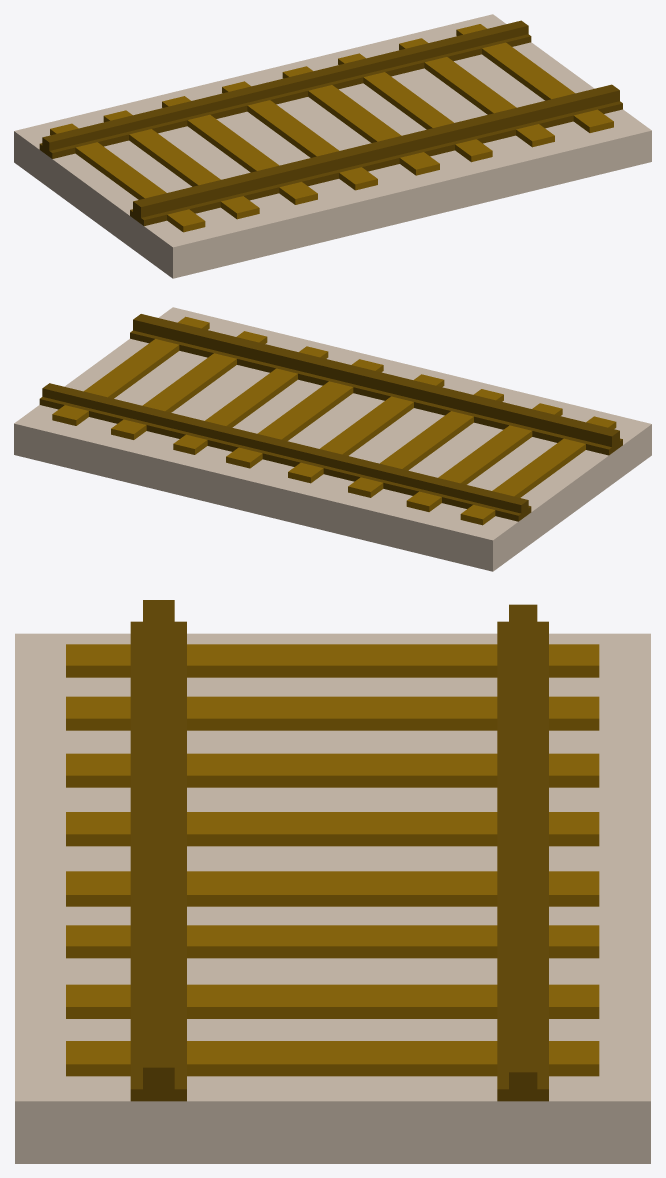
File: TrainTrack_MDL.fbx
The picture shows the model from 3 angles, top to bottom: view 1: azimuth 30°, elevation 25°; view 2: azimuth 150°, elevation 25°; view 3: azimuth 270°, elevation 25°; orthographic projection. The views are drawn at different scales.
Visible parts, largest first — view 1: TrainTrack_GEO; view 2: TrainTrack_GEO; view 3: TrainTrack_GEO.
Boxes of the visible parts, x1=… form: TrainTrack_GEO: x1=14, y1=14, x2=651, y2=278; TrainTrack_GEO: x1=14, y1=307, x2=651, y2=571; TrainTrack_GEO: x1=15, y1=600, x2=650, y2=1163.
Size of the model in its own units: 767 by 73.74 by 441.
